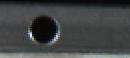holes: (27, 13, 61, 45)
